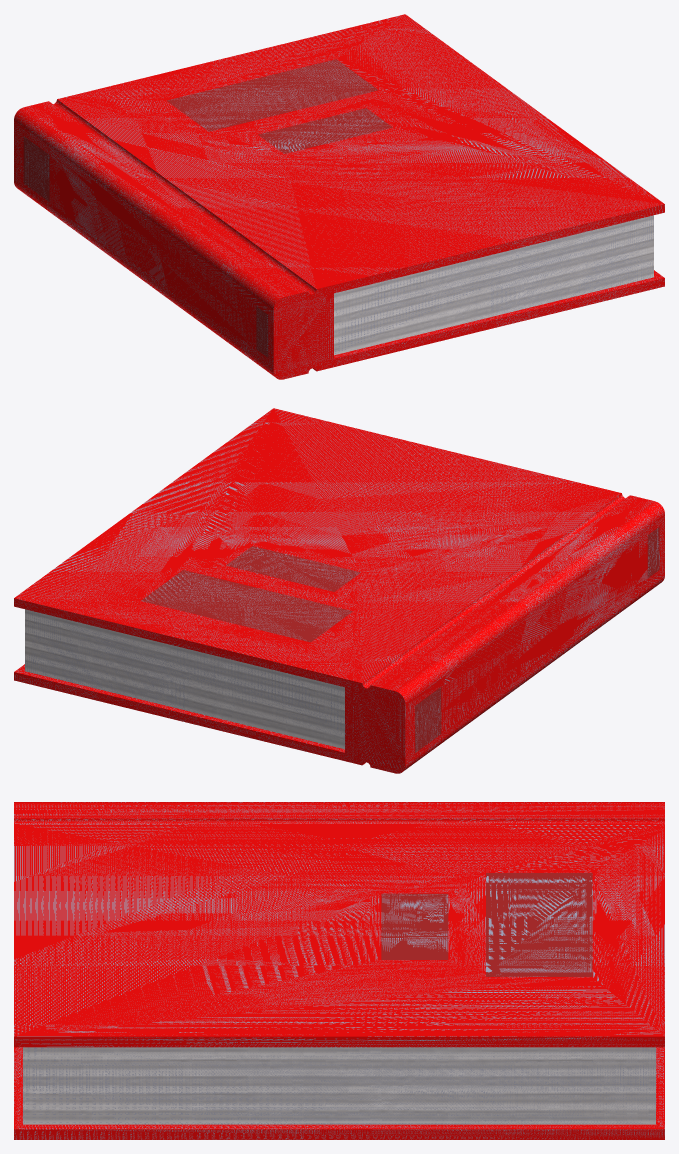
The picture shows the model from 3 angles, top to bottom: view 1: azimuth 30°, elevation 25°; view 2: azimuth 150°, elevation 25°; view 3: azimuth 270°, elevation 25°; orthographic projection. The views are drawn at different scales.
Parts seen in each view (by area): view 1: LIBRO (×6); view 2: LIBRO (×6); view 3: LIBRO (×4).
Boxes of the visible parts, x1,y1,x2,y2 form: LIBRO (×6): (14,14,664,379); LIBRO (×6): (14,408,664,773); LIBRO (×4): (14,802,664,1139).
Size of the model in its own units: 28.62 by 32.88 by 5.75.
4 materials, 1 textured.
